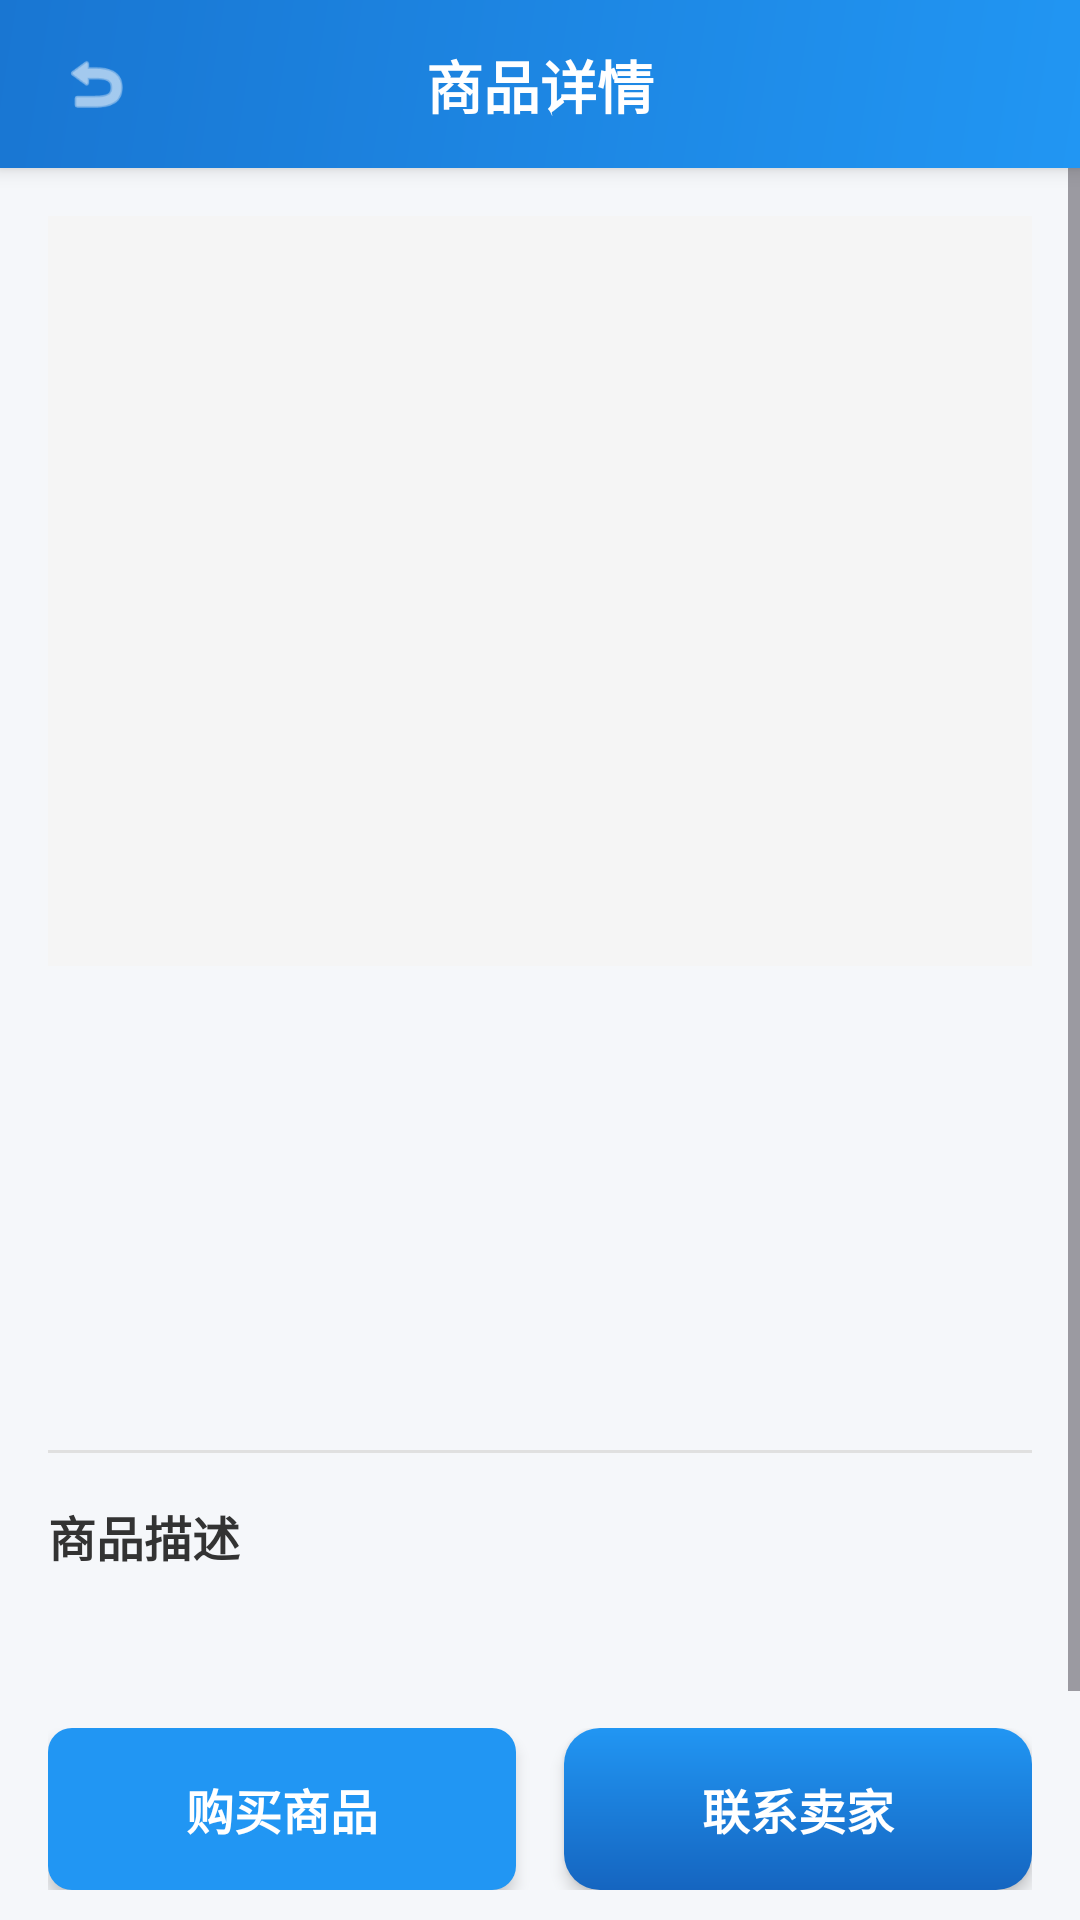

Where icons sit on this 1080×1920 app screen, as region(x1, y1, x2, y2):
revert: region(71, 61, 123, 108)
